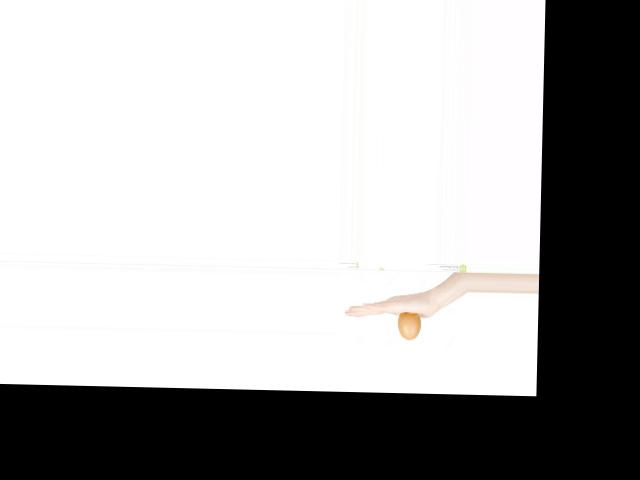egg: (396, 311, 420, 339)
